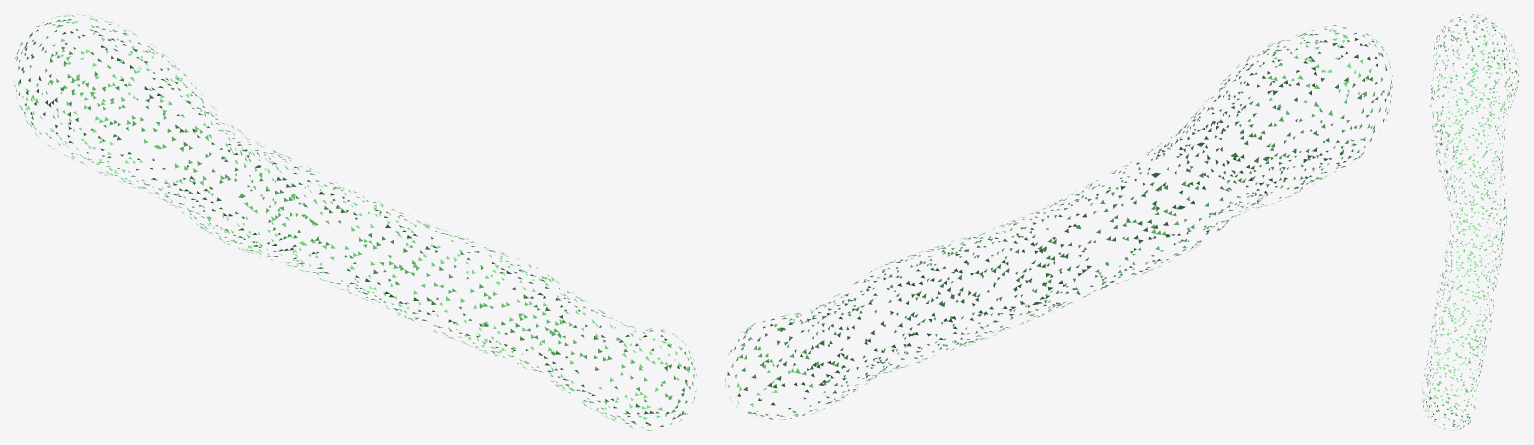
The model's file is morph_018.glb.
3 renders of one model, left to right at view 1: azimuth 30°, elevation 25°; view 2: azimuth 150°, elevation 25°; view 3: azimuth 270°, elevation 25°, orthographic. The views are drawn at different scales.
Bounding box in the file's own units: 101 × 78.91 × 25.97.
